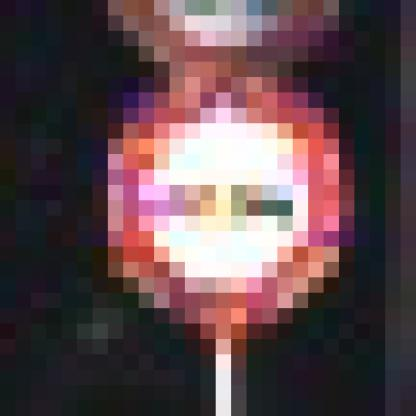No Overtaking: (78, 78, 340, 340)
